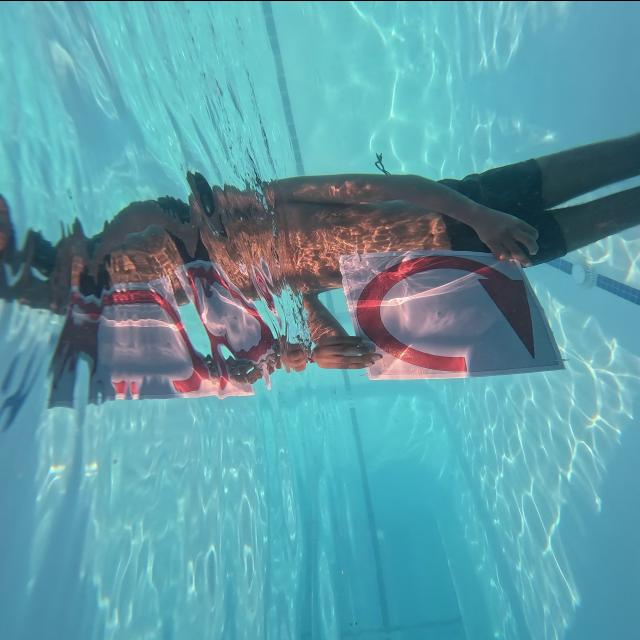red_side: (350, 252, 543, 374)
